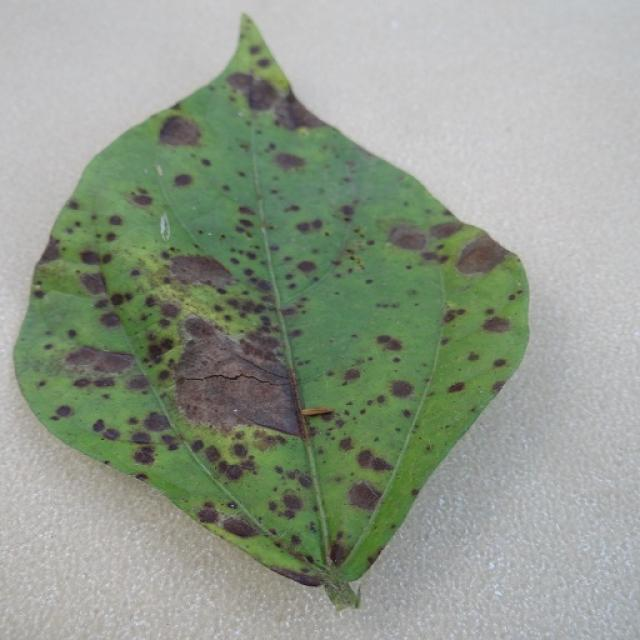Anthracnose: (171, 334, 315, 445), (165, 252, 238, 290), (61, 345, 138, 378), (227, 211, 278, 257), (453, 235, 509, 276), (379, 217, 433, 259), (237, 329, 291, 365), (329, 239, 378, 270), (282, 97, 325, 131), (157, 114, 202, 146), (245, 78, 280, 111), (348, 480, 382, 512), (272, 564, 321, 584), (355, 448, 392, 474), (180, 314, 214, 340), (221, 516, 258, 538), (250, 429, 283, 453), (78, 271, 107, 296), (428, 221, 464, 240), (37, 237, 62, 264), (239, 297, 271, 318), (273, 151, 306, 171), (141, 411, 169, 433), (225, 72, 253, 93), (480, 315, 512, 333), (375, 333, 403, 352), (329, 541, 350, 566), (286, 547, 313, 566), (389, 379, 414, 399), (158, 300, 183, 318), (295, 218, 323, 234), (196, 506, 219, 525), (282, 492, 303, 512), (132, 447, 155, 465), (98, 311, 122, 328), (146, 342, 167, 361), (79, 249, 103, 265), (130, 192, 154, 207), (172, 172, 194, 188), (224, 464, 244, 481), (443, 308, 464, 324), (130, 430, 152, 445), (342, 367, 361, 384), (204, 445, 221, 464), (160, 214, 171, 241), (296, 260, 317, 274), (100, 427, 120, 441), (231, 442, 248, 458), (109, 292, 127, 307), (54, 404, 73, 418), (253, 278, 272, 292), (237, 205, 257, 218), (338, 436, 354, 452), (285, 88, 300, 105), (446, 381, 465, 394), (297, 474, 313, 489), (491, 380, 507, 394), (374, 301, 402, 309), (107, 214, 124, 227), (237, 217, 254, 230), (160, 434, 178, 446), (340, 204, 355, 218), (92, 418, 106, 433), (289, 533, 302, 546), (492, 358, 508, 368), (466, 351, 480, 362), (256, 57, 270, 68), (32, 288, 46, 299), (169, 101, 183, 112), (284, 204, 300, 213), (105, 231, 118, 242), (66, 328, 78, 339), (238, 141, 250, 152), (135, 472, 149, 481), (402, 408, 413, 419), (200, 157, 212, 167), (249, 45, 261, 55), (410, 487, 420, 497), (425, 443, 434, 452), (507, 293, 517, 301), (227, 502, 237, 509), (392, 356, 401, 363), (102, 459, 111, 466)
Blackgram: (14, 16, 528, 605)
